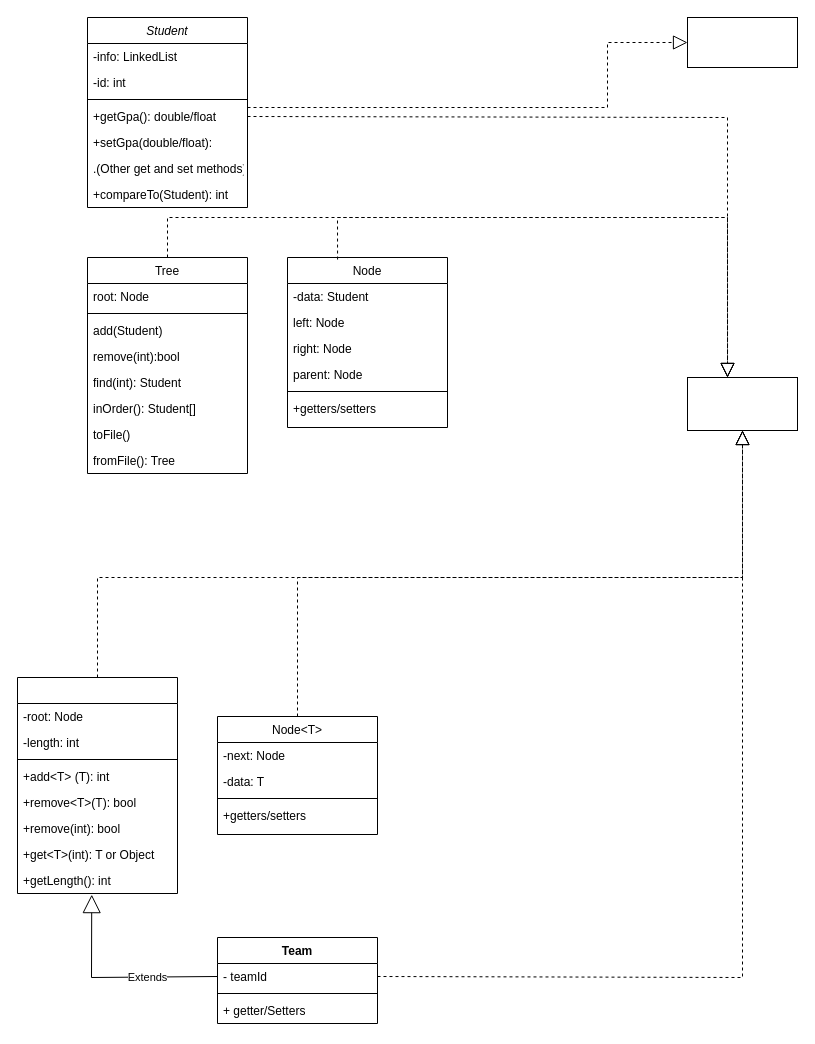
Some shapes in this 815 by 1044 pixel diagram are drawn without their labels. The box of each missing label's shape, as (x1, y1, x2, y2) in pixels:
LinkedList: (16, 676, 178, 894)
«interface» Comparable: (686, 16, 798, 68)
«interface» Serializable: (686, 376, 798, 430)
